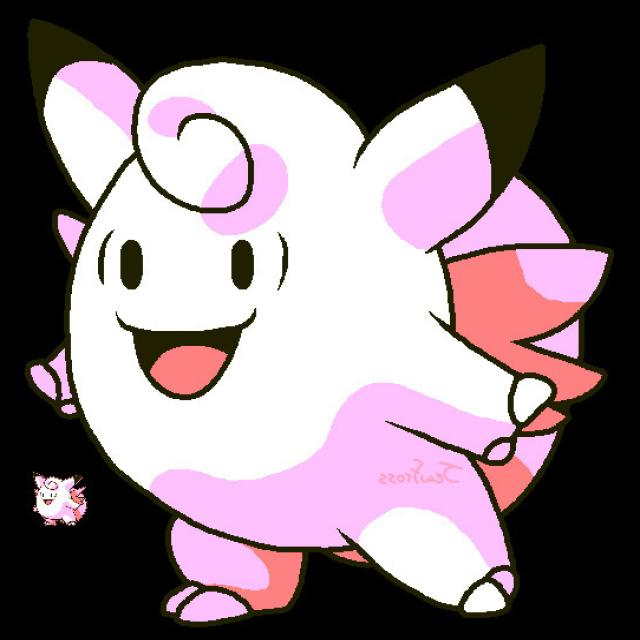Clefable: (23, 24, 609, 640), (26, 462, 95, 536)
